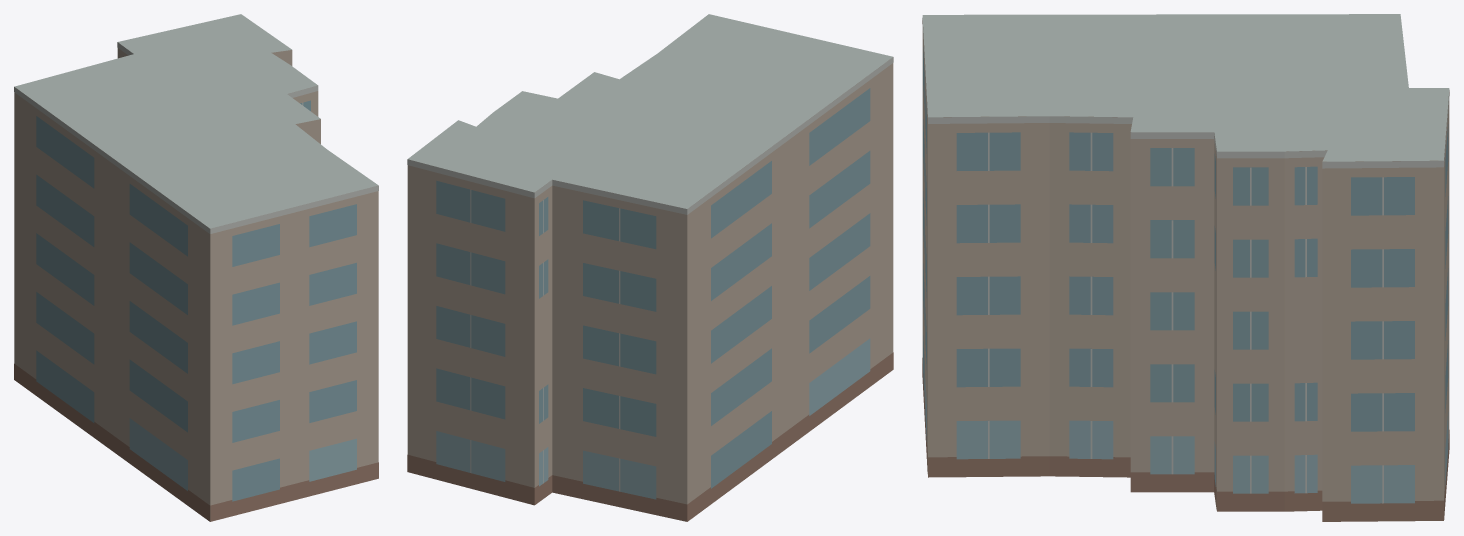
File: survey-upis-32641948.glb
3 views of the same model, side by side, from view 1: azimuth 30°, elevation 25°; view 2: azimuth 150°, elevation 25°; view 3: azimuth 270°, elevation 25° (orthographic). The views are drawn at different scales.
Parts seen in each view (by area): view 1: survey-upis-32641948.tmp; view 2: survey-upis-32641948.tmp; view 3: survey-upis-32641948.tmp.
Part boxes in pixels (<box>): survey-upis-32641948.tmp: <box>14,14,378,521</box>; survey-upis-32641948.tmp: <box>407,14,893,521</box>; survey-upis-32641948.tmp: <box>922,14,1449,521</box>.
Size of the model in its own units: 11.45 by 13 by 17.25.
